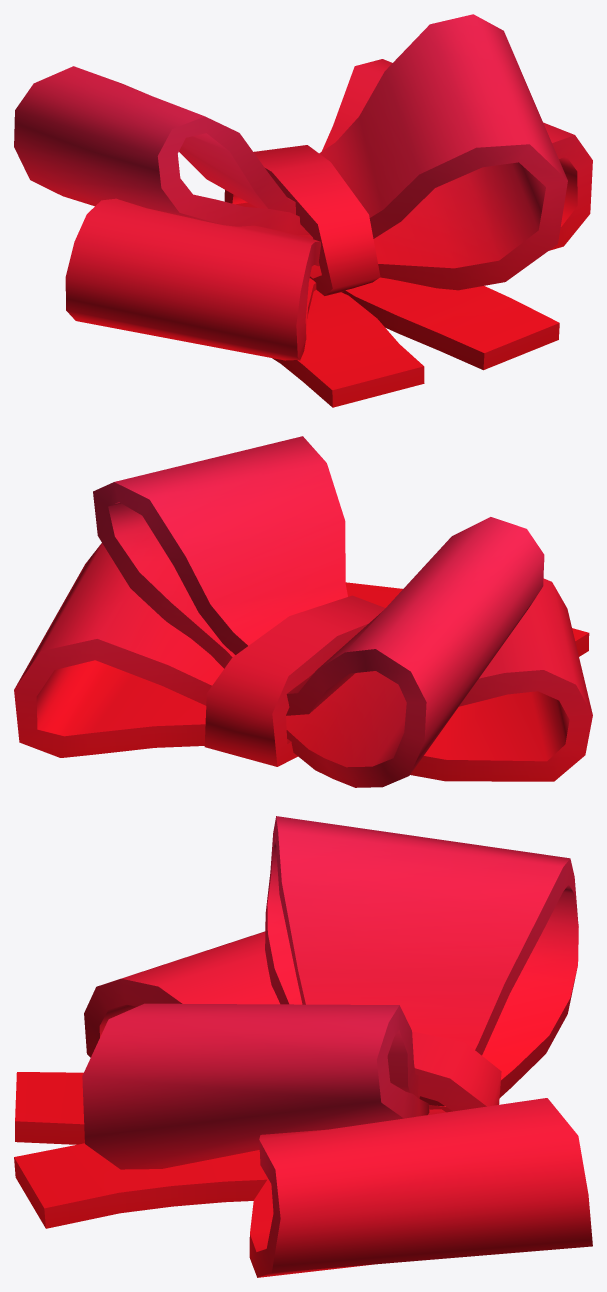
The model's file is bow_017.fbx.
3 renders of one model, top to bottom at view 1: azimuth 30°, elevation 25°; view 2: azimuth 150°, elevation 25°; view 3: azimuth 270°, elevation 25°, orthographic. The views are drawn at different scales.
Visible parts, largest first — view 1: bow_017; view 2: bow_017; view 3: bow_017.
Boxes of the visible parts, left/top/right/bottom form: bow_017: left=14, top=14, right=592, bottom=407; bow_017: left=14, top=436, right=592, bottom=787; bow_017: left=14, top=816, right=592, bottom=1277.
Size of the model in its own units: 246 by 206 by 99.13.
